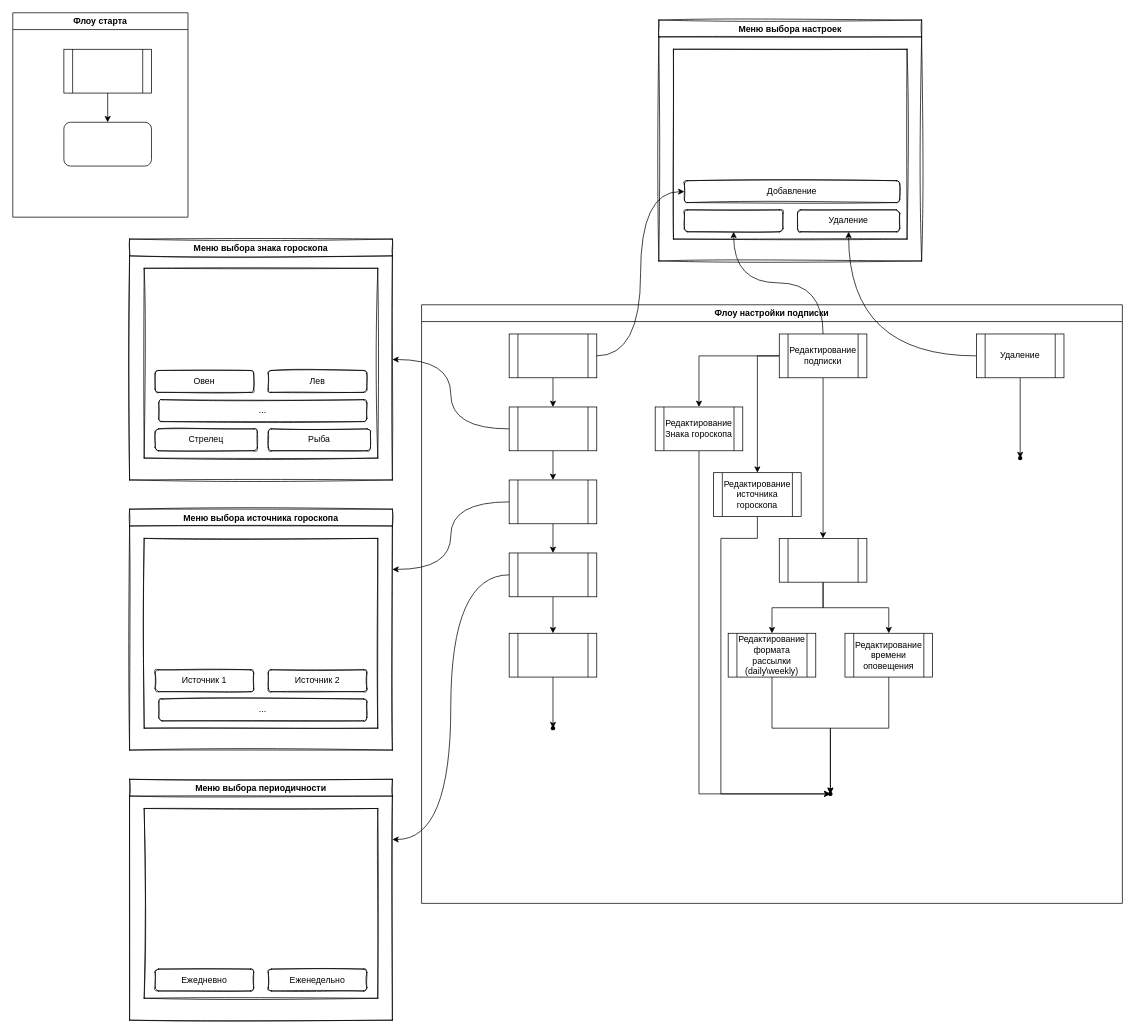
This 1135x1033 diagram has some shape labels left out. Here are the shapes that lost their labels. From the top down, the centre of each, then its label:
point (107, 71): Старт
point (107, 144): Приветственное сообщение
point (733, 220): Редактирование
point (552, 355): Добавление подписки
point (552, 428): Выбор знака гороскопа
point (552, 501): Выбор источника гороскопов
point (552, 574): Выбор периодичности
point (823, 560): Редактирование периодичности
point (552, 655): Выбор времени оповещения
